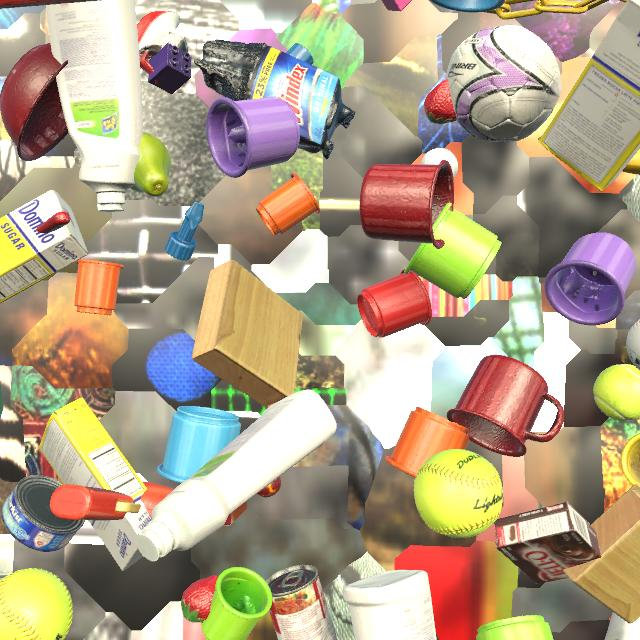ycb_003_cracker_box: (0, 0, 100, 9)
ycb_004_sugar_box: (39, 397, 152, 571), (538, 0, 640, 191), (0, 190, 89, 304)
ycb_005_tomato_soup_can: (265, 565, 337, 640)
ycb_007_tuna_fish_can: (2, 475, 85, 552)
ycb_008_pudding_box: (494, 501, 601, 584)
ycb_011_banana: (622, 149, 640, 175)
ycb_012_strawberry: (181, 575, 218, 623), (424, 79, 457, 124)
ycb_016_pear: (130, 132, 171, 197)
